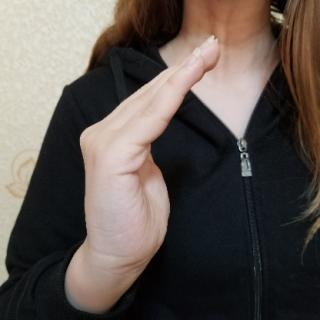HAA: (66, 32, 228, 286)
